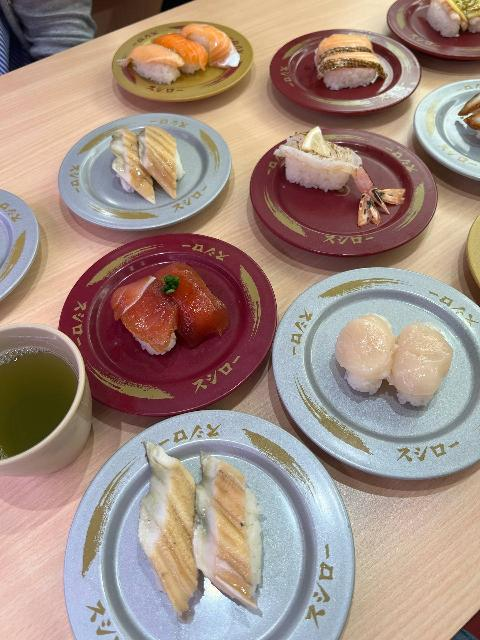jangold: (106, 12, 248, 96), (463, 219, 480, 279)
janred: (51, 258, 267, 405), (249, 119, 417, 251), (272, 10, 411, 113), (391, 0, 480, 62)
janwhite: (84, 431, 338, 640), (288, 251, 480, 448), (68, 111, 253, 222), (0, 162, 60, 305), (399, 98, 480, 194)
